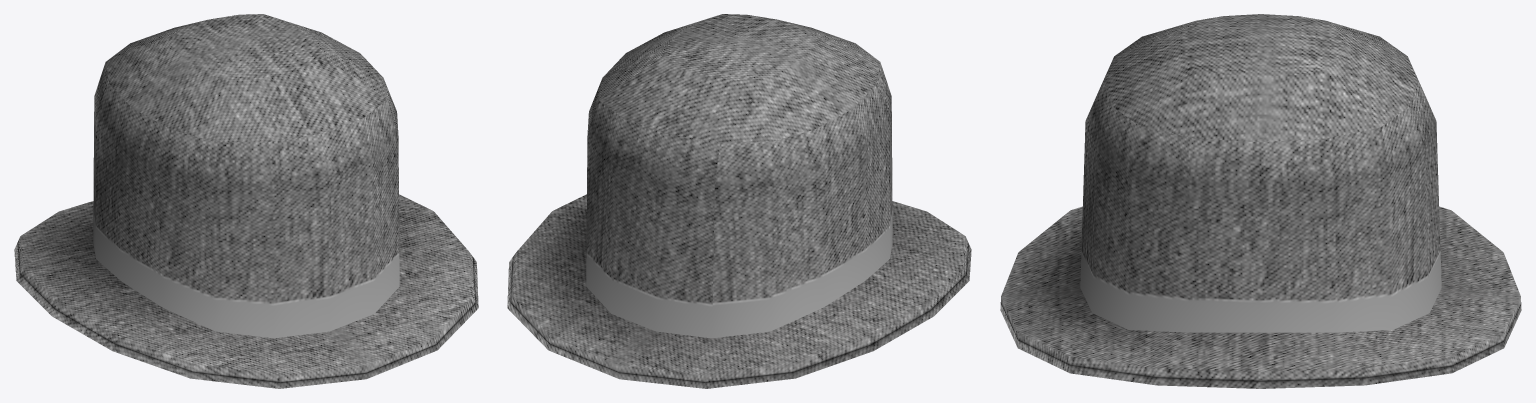
Rendered from harveyBowlerHat.fbx.
3 views of the same model, side by side, from view 1: azimuth 30°, elevation 25°; view 2: azimuth 150°, elevation 25°; view 3: azimuth 270°, elevation 25° (orthographic). The views are drawn at different scales.
Parts seen in each view (by area): view 1: hat1; view 2: hat1; view 3: hat1.
Part boxes in pixels (bbox=[...]): hat1: bbox=[14, 14, 478, 388]; hat1: bbox=[507, 14, 971, 388]; hat1: bbox=[1000, 14, 1521, 388].
Size of the model in its own units: 0.2876 by 0.178 by 0.307.
